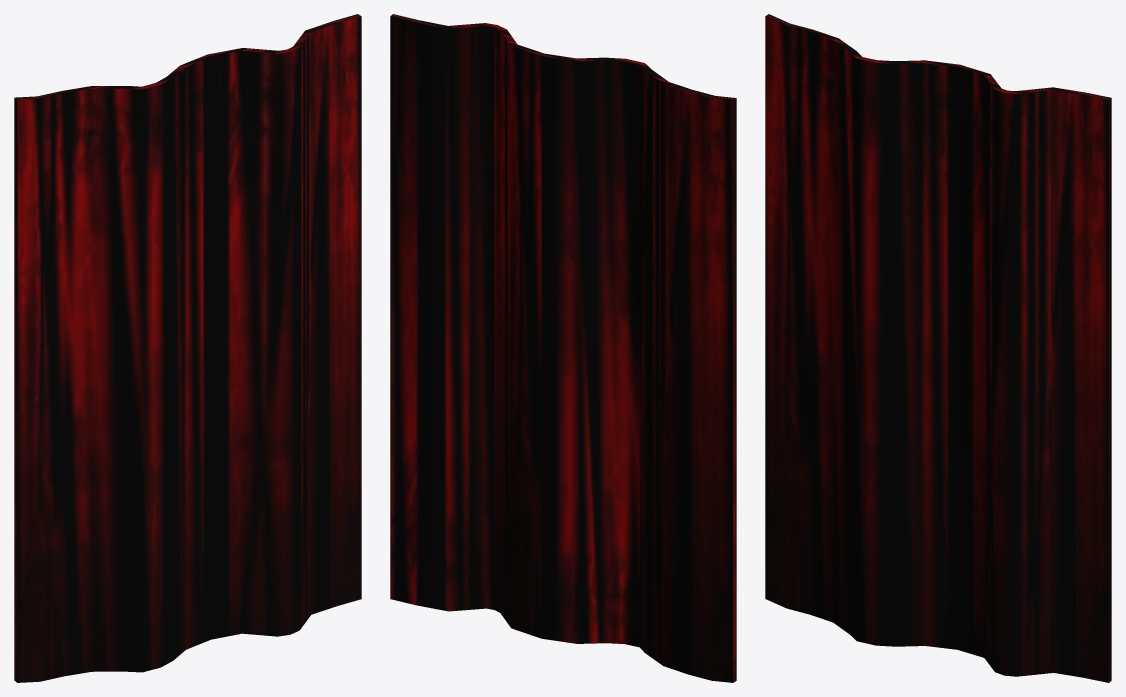
Rendered from Teatrro_Cortinas.fbx.
The picture shows the model from 3 angles, left to right: view 1: azimuth 30°, elevation 25°; view 2: azimuth 150°, elevation 25°; view 3: azimuth 330°, elevation 25°; orthographic projection.
Visible parts, largest first — view 1: Plane; view 2: Plane; view 3: Plane.
Boxes of the visible parts, x1,y1,x2,y2 form: Plane: (14,14,361,682); Plane: (390,14,736,682); Plane: (765,14,1111,682).
Size of the model in its own units: 124 by 201 by 12.56.
1 material, 1 textured.
